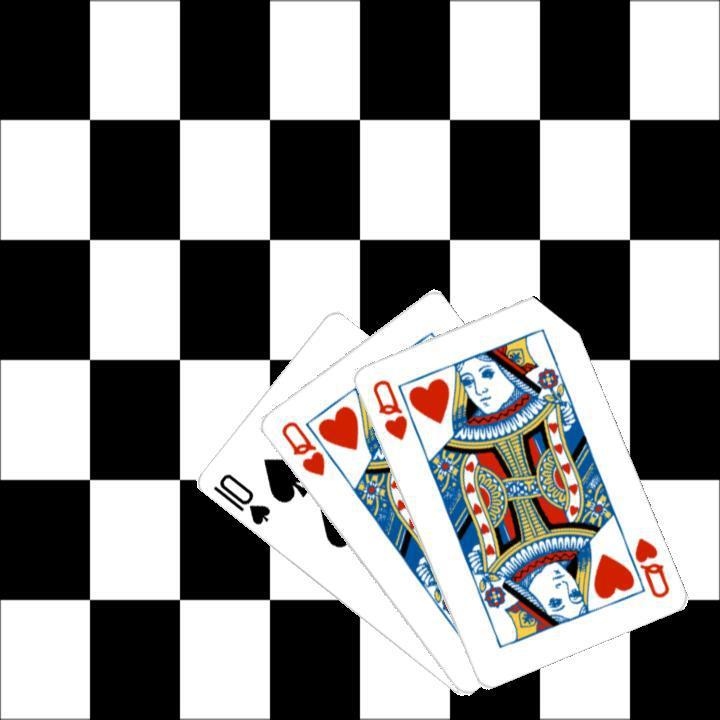10: (208, 469, 272, 528)
Q: (616, 530, 671, 600), (276, 416, 327, 479), (367, 374, 409, 442)
